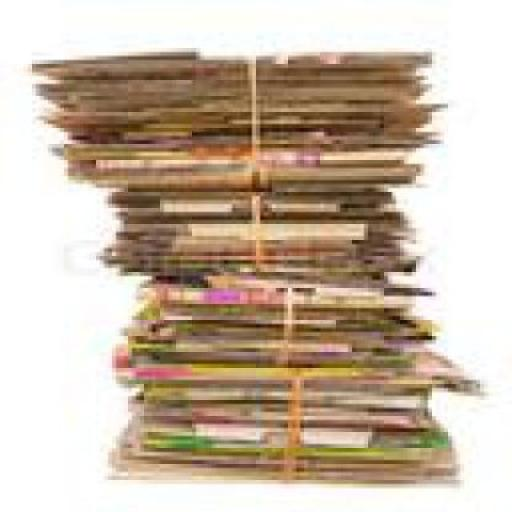cardboard: (28, 44, 476, 484), (56, 137, 420, 272), (108, 352, 476, 476), (32, 52, 441, 140), (116, 244, 428, 352)
